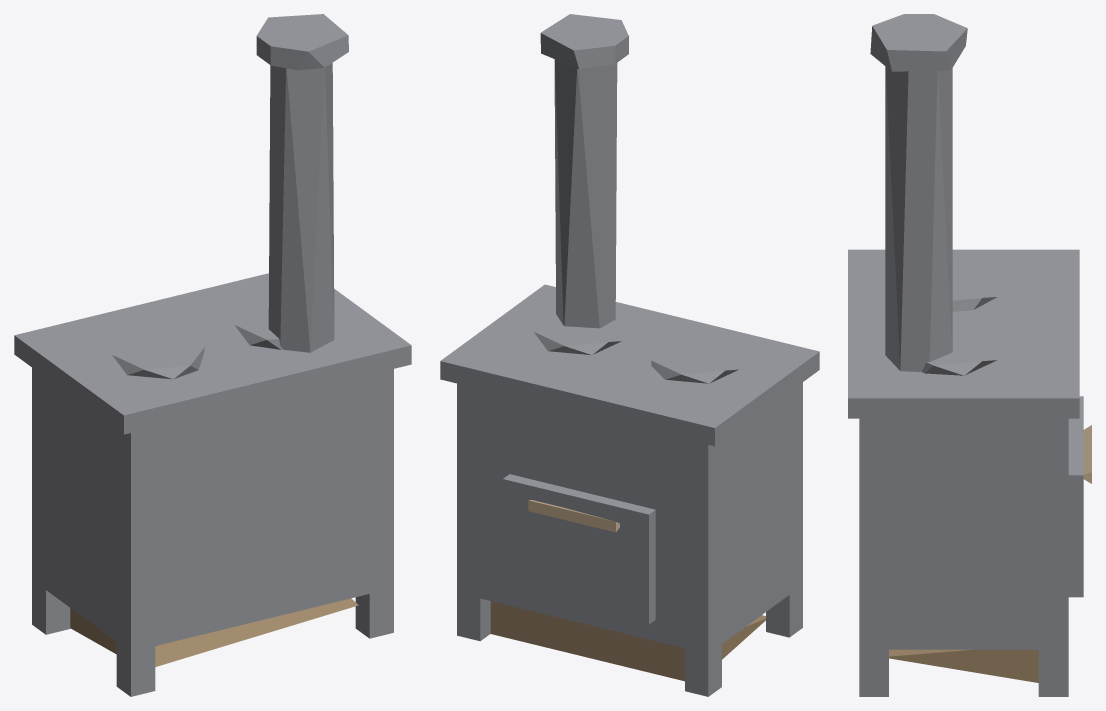
File: 18-Casas_estufa_lena.glb
3 views of the same model, side by side, from view 1: azimuth 30°, elevation 25°; view 2: azimuth 150°, elevation 25°; view 3: azimuth 270°, elevation 25° (orthographic). The views are drawn at different scales.
Parts seen in each view (by area): view 1: SM_Estufa_M_Mueble_Hierro, SM_Estufa_M_Mueble_Madera_Oscura; view 2: SM_Estufa_M_Mueble_Hierro, SM_Estufa_M_Mueble_Madera_Oscura, SM_Estufa_M_Mueble_Bronce; view 3: SM_Estufa_M_Mueble_Hierro, SM_Estufa_M_Mueble_Madera_Oscura, SM_Estufa_M_Mueble_Bronce.
Boxes of the visible parts, x1,y1,x2,y2 form: SM_Estufa_M_Mueble_Hierro: (14,14,411,696); SM_Estufa_M_Mueble_Madera_Oscura: (70,598,358,666); SM_Estufa_M_Mueble_Hierro: (440,14,819,696); SM_Estufa_M_Mueble_Madera_Oscura: (490,601,765,681); SM_Estufa_M_Mueble_Bronce: (528,500,619,532); SM_Estufa_M_Mueble_Hierro: (848,14,1083,696); SM_Estufa_M_Mueble_Madera_Oscura: (889,649,1038,682); SM_Estufa_M_Mueble_Bronce: (1083,425,1091,483).
Size of the model in its own units: 0.94 by 1.86 by 0.6525.
